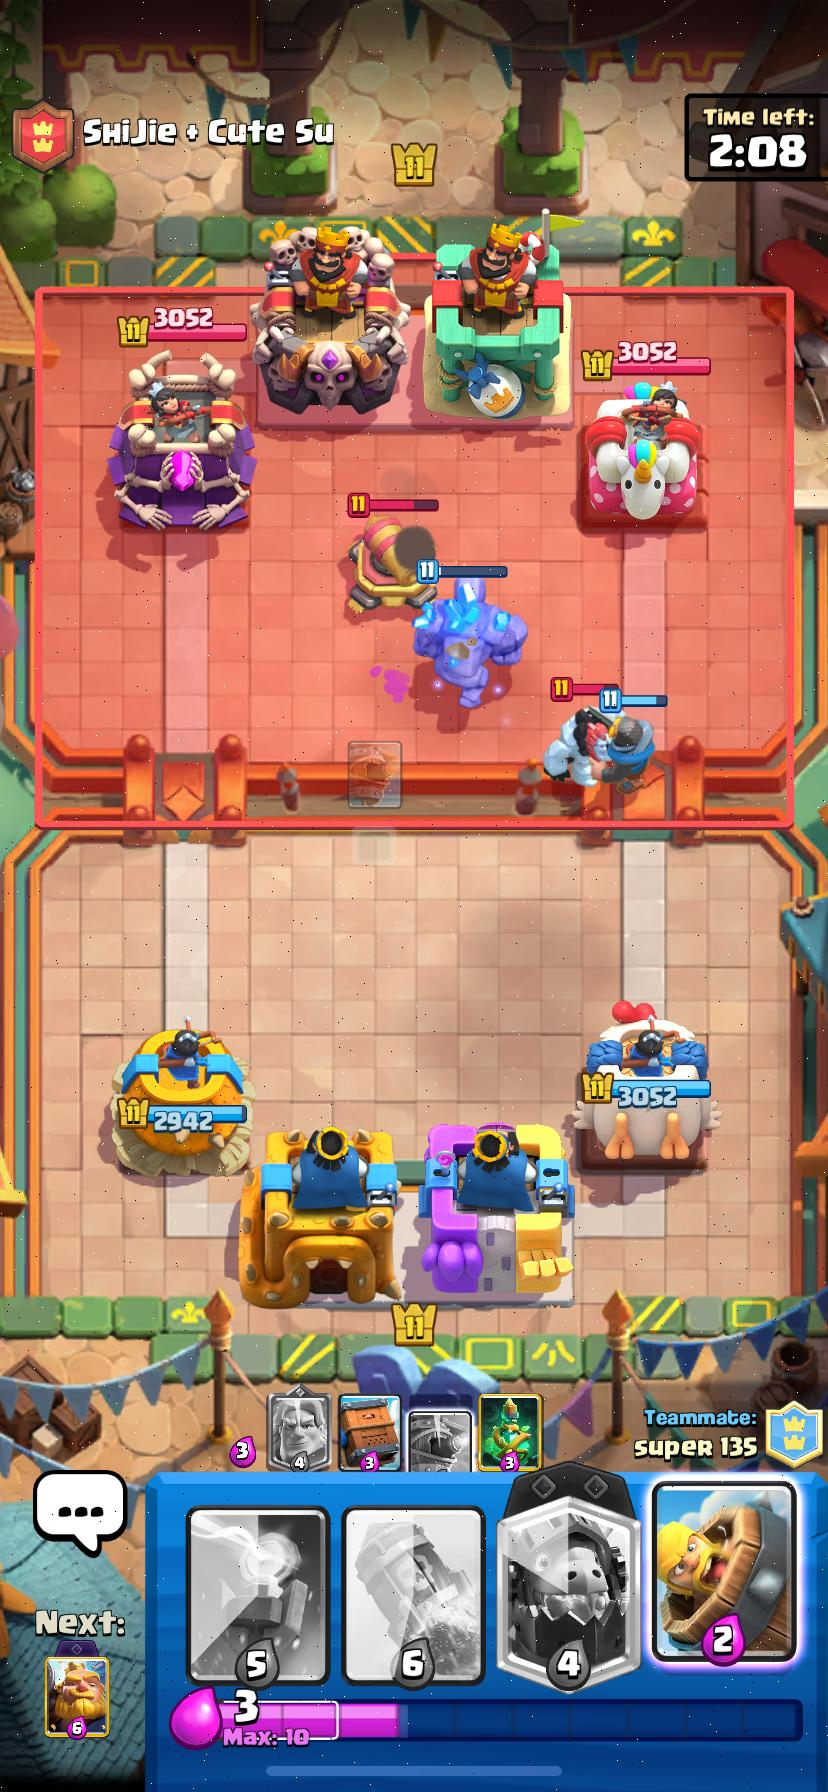EIceGolem: (544, 706, 612, 790)
EKingTower: (250, 224, 409, 414), (423, 213, 568, 418)
Ecan: (348, 518, 433, 611)
EnemyPrincessTower: (109, 352, 255, 530), (586, 381, 700, 523)
OGolem: (415, 582, 527, 709)
OKnight: (596, 711, 654, 792)
OwnKingTower: (240, 1126, 401, 1306), (419, 1123, 573, 1301)
OwnPrincessTower: (576, 1003, 711, 1166), (113, 1019, 253, 1175)
